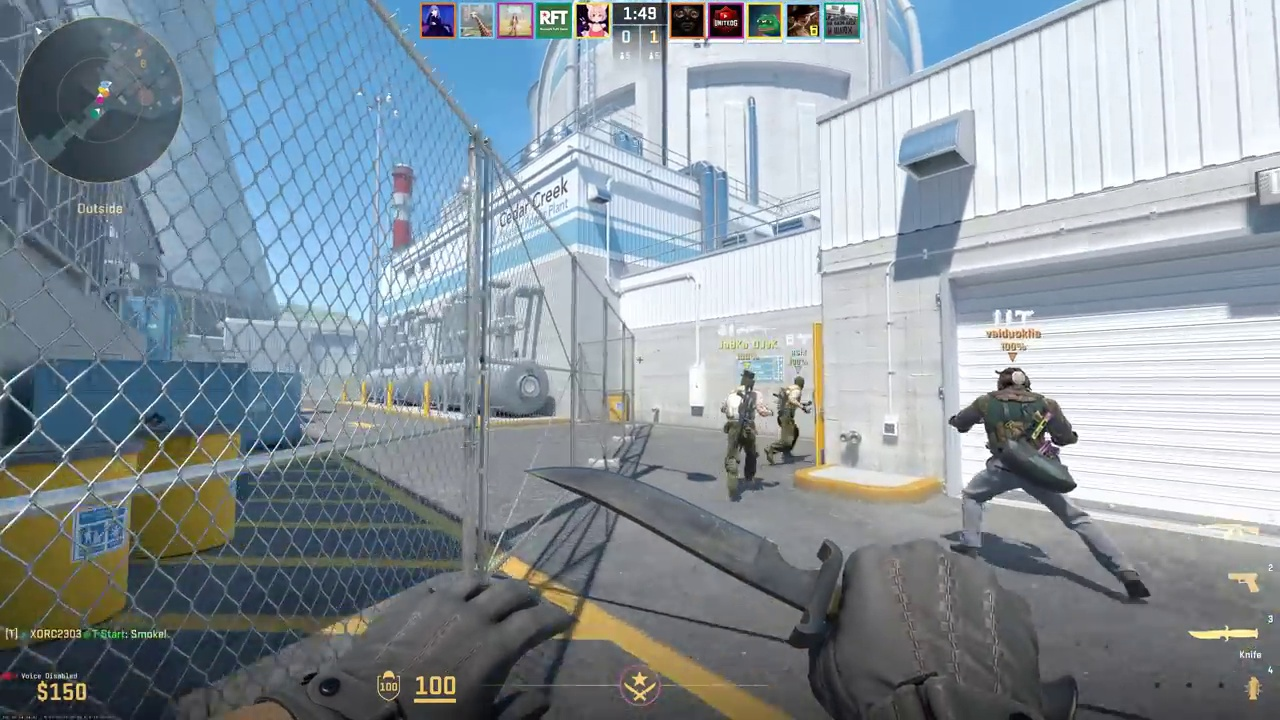Terrorist: (949, 367, 1102, 582), (722, 371, 766, 501), (774, 376, 807, 462)
